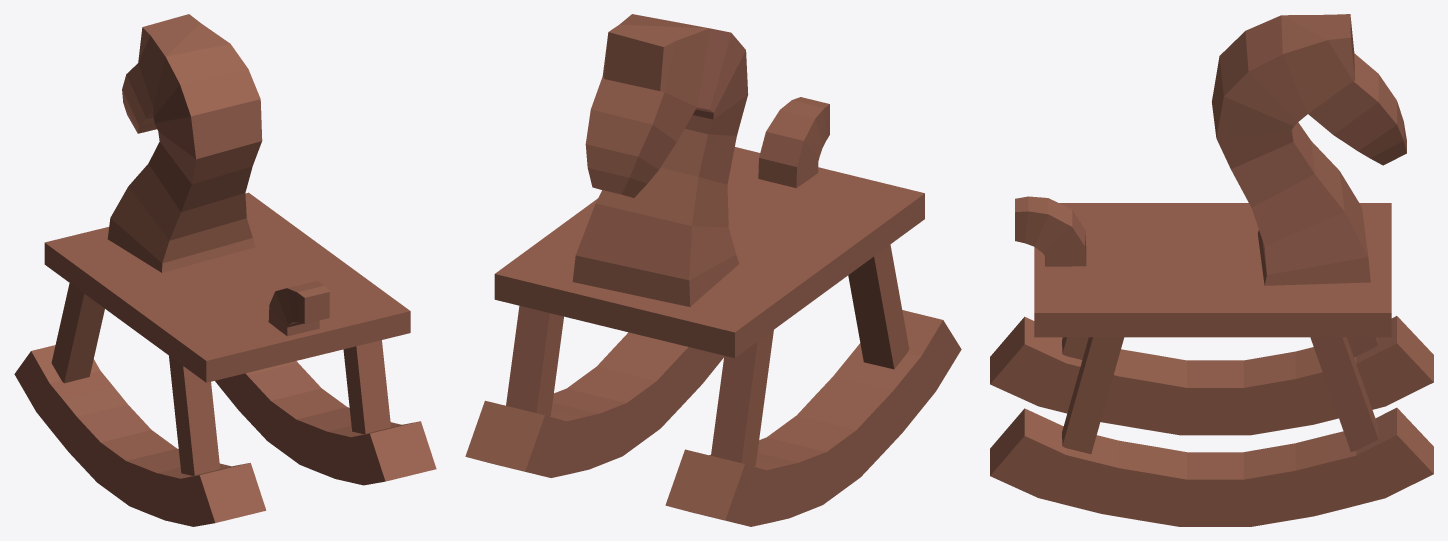
File: rockingHorse.fbx
3 views of the same model, side by side, from view 1: azimuth 30°, elevation 25°; view 2: azimuth 150°, elevation 25°; view 3: azimuth 270°, elevation 25° (orthographic). The views are drawn at different scales.
Visible parts, largest first — view 1: plane, head, rightBase, leftBase, rightBack, leftBack, rightFront, tail; view 2: head, plane, rightBase, leftBase, rightFront, rightBack, tail, leftFront; view 3: plane, head, leftBase, rightBase, leftBack, leftFront, tail.
Boxes of the visible parts, x1=… form: plane: x1=44, y1=192, x2=410, y2=382; head: x1=107, y1=14, x2=262, y2=272; rightBase: x1=14, y1=345, x2=266, y2=526; leftBase: x1=215, y1=361, x2=436, y2=485; rightBack: x1=169, y1=356, x2=220, y2=475; leftBack: x1=343, y1=340, x2=390, y2=434; rightFront: x1=51, y1=283, x2=104, y2=383; tail: x1=268, y1=281, x2=329, y2=336; head: x1=572, y1=14, x2=748, y2=306; plane: x1=494, y1=147, x2=924, y2=358; rightBase: x1=665, y1=310, x2=961, y2=526; leftBase: x1=465, y1=332, x2=724, y2=477; rightFront: x1=711, y1=330, x2=773, y2=466; rightBack: x1=848, y1=244, x2=909, y2=369; tail: x1=758, y1=97, x2=829, y2=188; leftFront: x1=506, y1=305, x2=563, y2=416; plane: x1=1034, y1=203, x2=1391, y2=337; head: x1=1212, y1=14, x2=1406, y2=285; leftBase: x1=990, y1=407, x2=1433, y2=526; rightBase: x1=990, y1=316, x2=1433, y2=435; leftBack: x1=1062, y1=337, x2=1124, y2=453; leftFront: x1=1310, y1=337, x2=1378, y2=451; tail: x1=1015, y1=196, x2=1086, y2=266.
Size of the model in its own units: 217 by 376 by 341.
